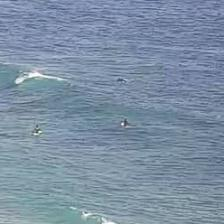surfer: (121, 118, 130, 128), (32, 126, 42, 134), (116, 77, 128, 83)
